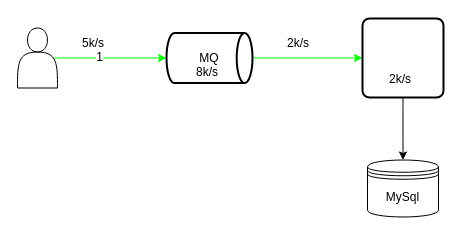
Image size: 462x234. Some labels were removed from this diagram. The box of each missing label's shape, as (x1, y1, x2, y2) in pixels:
S系统: (361, 17, 444, 98)
用户: (16, 27, 58, 88)
